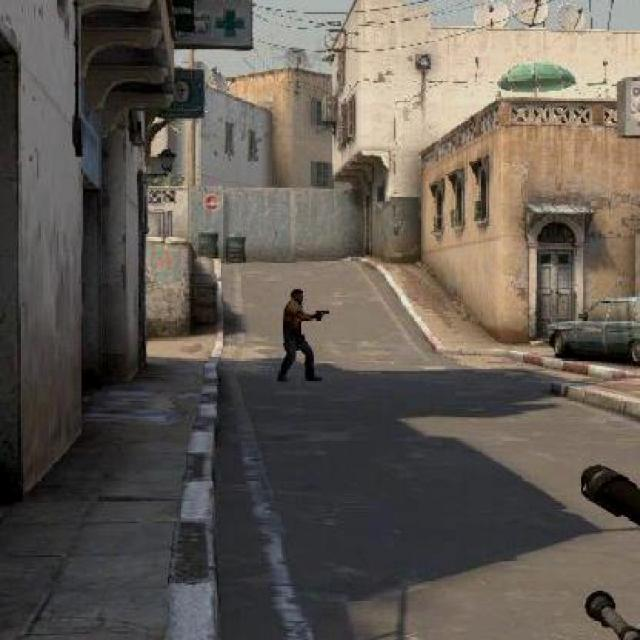Dead: (290, 286, 306, 302)
T-Body: (274, 285, 323, 383)
